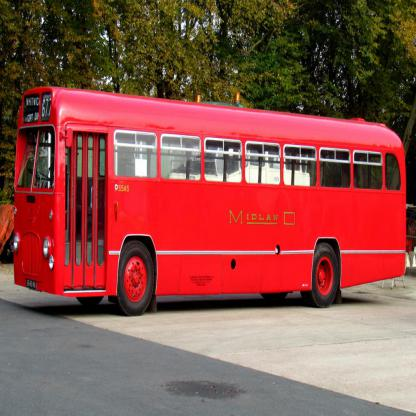Bus: (14, 86, 406, 318)
